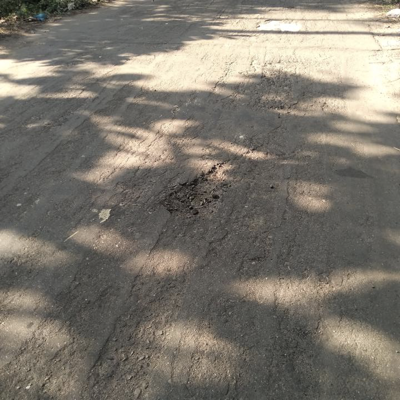pothole: (159, 162, 233, 222)
